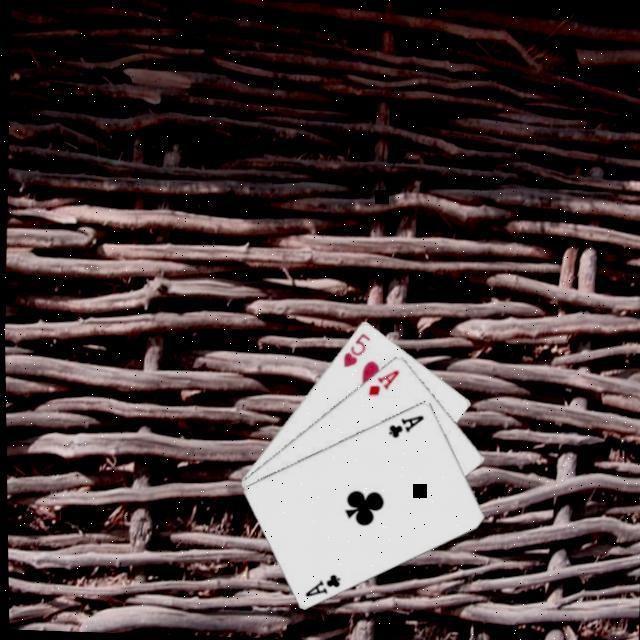5H: (337, 328, 371, 369)
AC: (382, 410, 425, 440), (300, 568, 340, 599)
AD: (362, 363, 400, 398)
